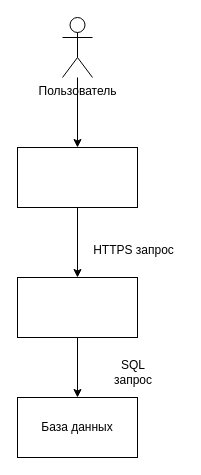
Some shapes in this 201 by 475 pixel diagram are drawn without their labels. Each missing label, with the box of its shape:
Веб-интерфейс: (16, 146, 138, 208)
Сервер: (16, 276, 138, 338)
